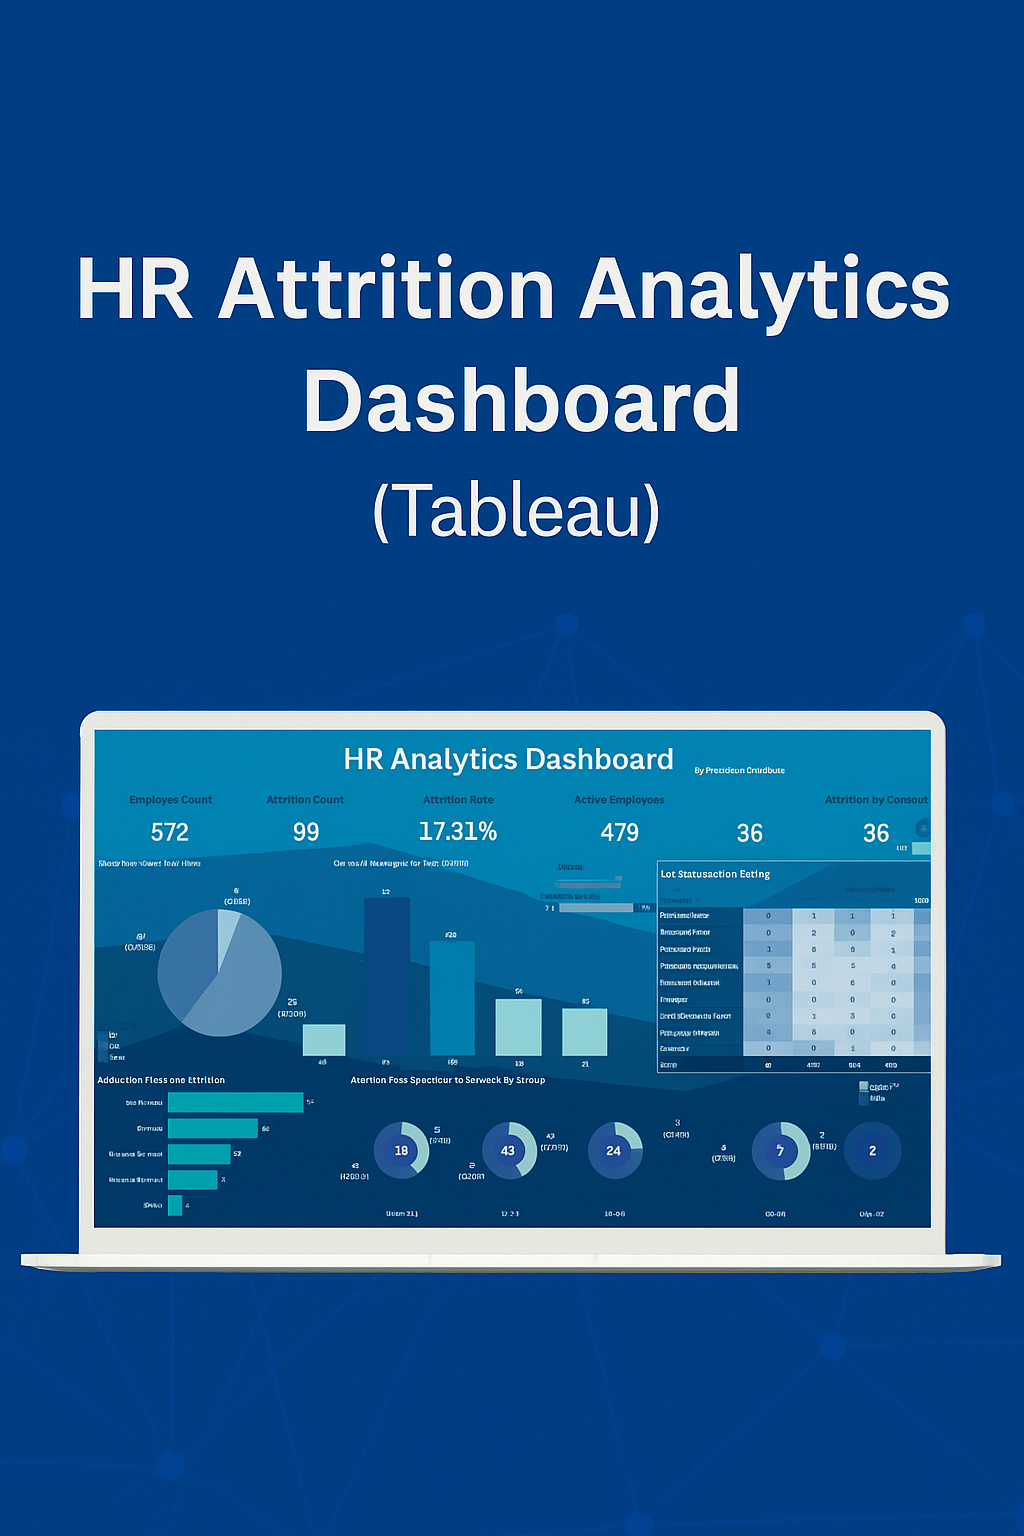

What the dashboard file says about the page in this screenshot:
{"tool":"tableau","page":{"name":"HR Dashboard ","canvas":[1580,900],"ordinal":0},"visuals":[{"type":"image","param":"Image/stacked-peaks-haikei.png","box":[8,8,1564,884]},{"type":"filter","title":"Department wise Attrition","param":"[federated.0f0h03p1it3gvo176rhln1y1tx4v].[none:Education:nk]","box":[1325,12,233,82]},{"type":"text","box":[246,24,1028,74]},{"type":"text","box":[1041,72,184,21]},{"type":"worksheet","title":"KPI","mark":"Text","box":[22,97,1322,135]},{"type":"worksheet","title":"Attrition by Gender","mark":"Automatic","rows":["Gender"],"cols":["Calculation_231935388807032832","Calculation_231935388807032832"],"box":[1341,99,220,133]},{"type":"worksheet","title":"Department wise Attrition","mark":"Pie","box":[22,232,441,365]},{"type":"worksheet","title":"No. of Employee by Age Group","mark":"Automatic","rows":["Employee Count"],"cols":["Age (bin)"],"box":[464,232,543,365]},{"type":"worksheet","title":"Job Satisfaction Rating","mark":"Square","rows":["Job Role"],"cols":["Job Satisfaction"],"box":[1008,232,549,364]},{"type":"parameter","param":"[Parameters].[Age Parameter]","box":[851,236,155,49]},{"type":"legend","title":"No. of Employee by Age Group","param":"[federated.0f0h03p1it3gvo176rhln1y1tx4v].[sum:Employee Count:qk]","box":[825,285,182,44]},{"type":"legend","title":"Department wise Attrition","param":"[federated.0f0h03p1it3gvo176rhln1y1tx4v].[none:Department:nk]","box":[23,518,140,85]},{"type":"worksheet","title":"Education Field wise Attrition","mark":"Automatic","rows":["Education Field"],"cols":["Calculation_231935388807032832"],"box":[22,597,442,291]},{"type":"worksheet","title":"Attrition Rate by Gender for Different Age Group","mark":"Pie","rows":["Calculation_1302666200262176769","Calculation_1302666200262176769"],"cols":["CF_age band"],"box":[463,597,1093,289]},{"type":"legend","title":"Attrition Rate by Gender for Different Age Group","param":"[federated.0f0h03p1it3gvo176rhln1y1tx4v].[none:Gender:nk]","box":[1318,601,239,41]}]}

Visuals, with their boxes on the page's 1580x900 design canvas (x1, y1, x2, y2). These are canvas units, not pixel positions in the 1024x1536 screenshot, which may show the page scaled, cropped or inside an application window:
image: <region>8, 8, 1572, 892</region>
"Department wise Attrition" filter: <region>1325, 12, 1558, 94</region>
text: <region>246, 24, 1274, 98</region>
text: <region>1041, 72, 1225, 93</region>
"KPI" worksheet (Text marks): <region>22, 97, 1344, 232</region>
"Attrition by Gender" worksheet: <region>1341, 99, 1561, 232</region>
"Department wise Attrition" worksheet (Pie marks): <region>22, 232, 463, 597</region>
"No. of Employee by Age Group" worksheet: <region>464, 232, 1007, 597</region>
"Job Satisfaction Rating" worksheet (Square marks): <region>1008, 232, 1557, 596</region>
parameter: <region>851, 236, 1006, 285</region>
"No. of Employee by Age Group" legend: <region>825, 285, 1007, 329</region>
"Department wise Attrition" legend: <region>23, 518, 163, 603</region>
"Education Field wise Attrition" worksheet: <region>22, 597, 464, 888</region>
"Attrition Rate by Gender for Different Age Group" worksheet (Pie marks): <region>463, 597, 1556, 886</region>
"Attrition Rate by Gender for Different Age Group" legend: <region>1318, 601, 1557, 642</region>
